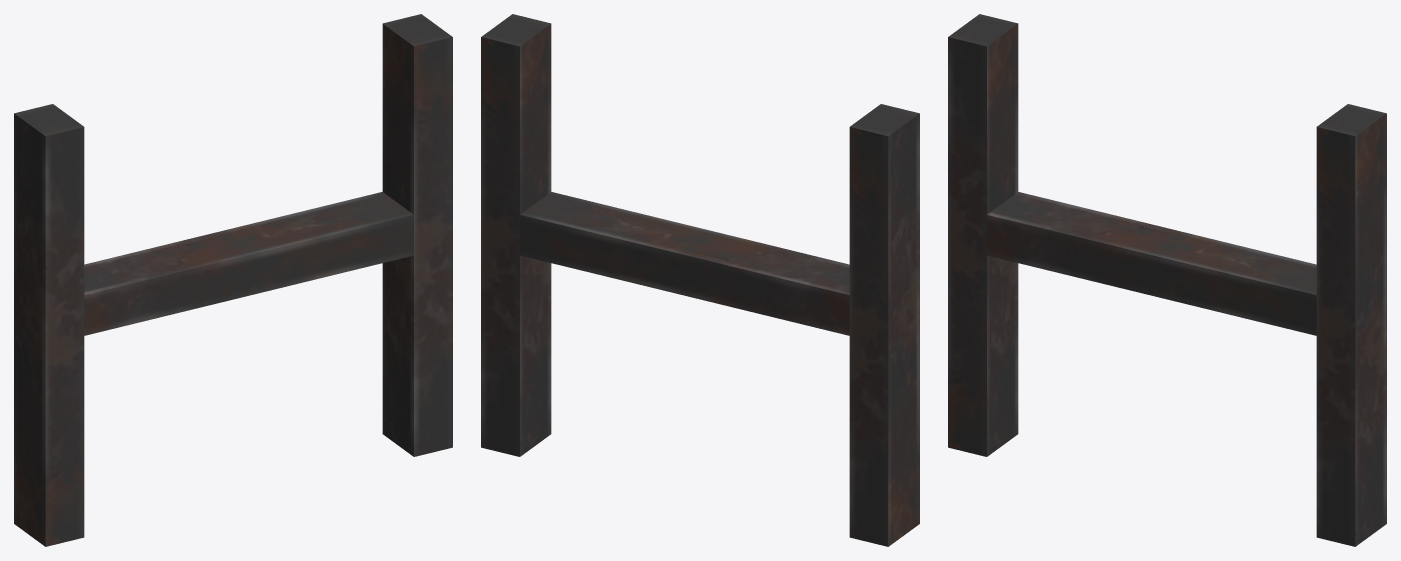
The model's file is pipe03_support01.fbx.
3 renders of one model, left to right at view 1: azimuth 30°, elevation 25°; view 2: azimuth 150°, elevation 25°; view 3: azimuth 330°, elevation 25°, orthographic.
Visible parts, largest first — view 1: pipe03_support01; view 2: pipe03_support01; view 3: pipe03_support01.
Boxes of the visible parts, <box> form: pipe03_support01: <box>14,14,452,546</box>; pipe03_support01: <box>481,14,919,546</box>; pipe03_support01: <box>948,14,1386,546</box>.
Bounding box in the file's own units: 51.9 × 50 × 6.95.
